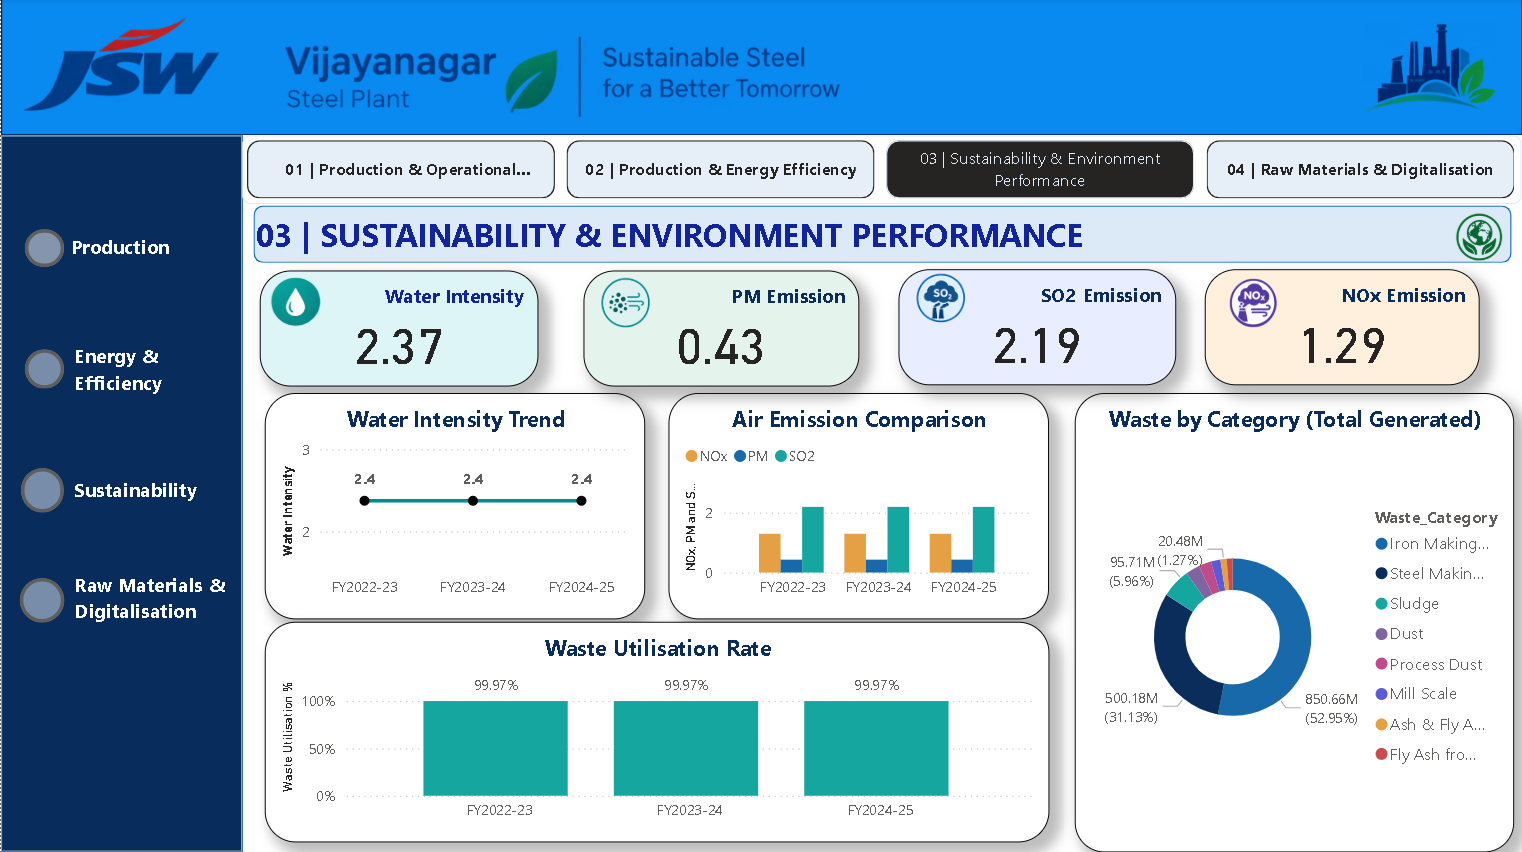

The dashboard page shown, as its layout file describes it:
{"tool":"powerbi","page":{"name":"03 | Sustainability & Environment Performance","canvas":[1280,720],"ordinal":2},"visuals":[{"type":"card","title":"Water Intensity","fields":{"Values":["Water.Average Water Intensity"]},"box":[217.6,229.2,234.5,97.8],"z":0},{"type":"lineChart","title":"Water Intensity Trend","fields":{"Category":["Dim FY.FY"],"Y":["Avg(Water.Specific_Water_m3_per_tcs)"]},"box":[222.2,331.8,320.3,190.4],"z":1000},{"type":"clusteredColumnChart","title":"Air Emission Comparison","fields":{"Category":["Dim FY.FY"],"Y":["Air Emissions.Average NOx","Air Emissions.Average PM","Air Emissions.Average SO2"]},"box":[561.2,331.8,320.3,190.4],"z":2000},{"type":"donutChart","title":"Waste by Category (Total Generated)","fields":{"Category":["Waste.Waste_Category"],"Y":["Waste.Total Waste Generated"]},"box":[903.2,331.8,369.3,386.7],"z":3000},{"type":"clusteredColumnChart","title":"Waste Utilisation Rate","fields":{"Category":["Dim FY.FY"],"Y":["Waste.Waste Utilisation %"]},"box":[221.7,524.9,660.4,185.8],"z":4000},{"type":"shape","box":[0,115.4,203.4,603.1],"z":5000},{"type":"shape","box":[0,0,1279.7,115.4],"z":6000},{"type":"shape","box":[211.9,174.9,1058.1,48.4],"z":7000},{"type":"card","title":"PM Emission","fields":{"Values":["Air Emissions.Average PM"]},"box":[490,229.2,232.4,97.8],"z":8000},{"type":"card","title":"SO2 Emission","fields":{"Values":["Air Emissions.Average SO2"]},"box":[754.9,228.2,233.4,97.8],"z":9000},{"type":"card","title":"NOx Emission","fields":{"Values":["Air Emissions.Average NOx"]},"box":[1012.5,228.2,231.3,97.8],"z":10000},{"type":"textbox","box":[53.4,191.9,103.9,39],"z":11000},{"type":"textbox","box":[56.3,284.2,102.4,59.2],"z":12000},{"type":"textbox","box":[56.3,396.8,124.1,46.2],"z":13000},{"type":"textbox","box":[56.3,476.1,147.2,60.6],"z":14000},{"type":"actionButton","box":[20.2,194.8,33.2,31.7],"z":15000},{"type":"actionButton","box":[20.2,295.8,33.2,33.2],"z":16000},{"type":"actionButton","box":[17.3,395.3,36.1,37.5],"z":17000},{"type":"actionButton","box":[15.9,487.7,37.5,37.5],"z":18000},{"type":"pageNavigator","box":[203.4,115.4,1076.3,57.7],"z":19000},{"type":"image","box":[13,8.7,177.5,98.1],"z":20000},{"type":"image","box":[129.8,0,411.2,115.4],"z":21000},{"type":"image","box":[1139.8,0,122.6,115.4],"z":22000},{"type":"image","box":[414.1,0,300.1,127],"z":23000},{"type":"image","box":[221.8,228.2,52.6,53.6],"z":24000},{"type":"image","box":[1027.2,231.3,51.5,50.5],"z":25000},{"type":"image","box":[764.4,226.1,52.6,52.6],"z":26000},{"type":"image","box":[499.4,230.3,52.6,52.6],"z":27000},{"type":"image","box":[1217.5,174.5,52.6,52.6],"z":28000}]}

Visuals, with their boxes on the page's 1280x720 design canvas (x1, y1, x2, y2). These are canvas units, not pixel positions in the 1522x852 screenshot, which may show the page scaled, cropped or inside an application window:
"Water Intensity" card: 218,229,452,327
"Water Intensity Trend" lineChart: 222,332,542,522
"Air Emission Comparison" clusteredColumnChart: 561,332,882,522
"Waste by Category (Total Generated)" donutChart: 903,332,1272,718
"Waste Utilisation Rate" clusteredColumnChart: 222,525,882,711
shape: 0,115,203,718
shape: 0,0,1280,115
shape: 212,175,1270,223
"PM Emission" card: 490,229,722,327
"SO2 Emission" card: 755,228,988,326
"NOx Emission" card: 1012,228,1244,326
textbox: 53,192,157,231
textbox: 56,284,159,343
textbox: 56,397,180,443
textbox: 56,476,204,537
actionButton: 20,195,53,226
actionButton: 20,296,53,329
actionButton: 17,395,53,433
actionButton: 16,488,53,525
pageNavigator: 203,115,1280,173
image: 13,9,190,107
image: 130,0,541,115
image: 1140,0,1262,115
image: 414,0,714,127
image: 222,228,274,282
image: 1027,231,1079,282
image: 764,226,817,279
image: 499,230,552,283
image: 1218,174,1270,227
